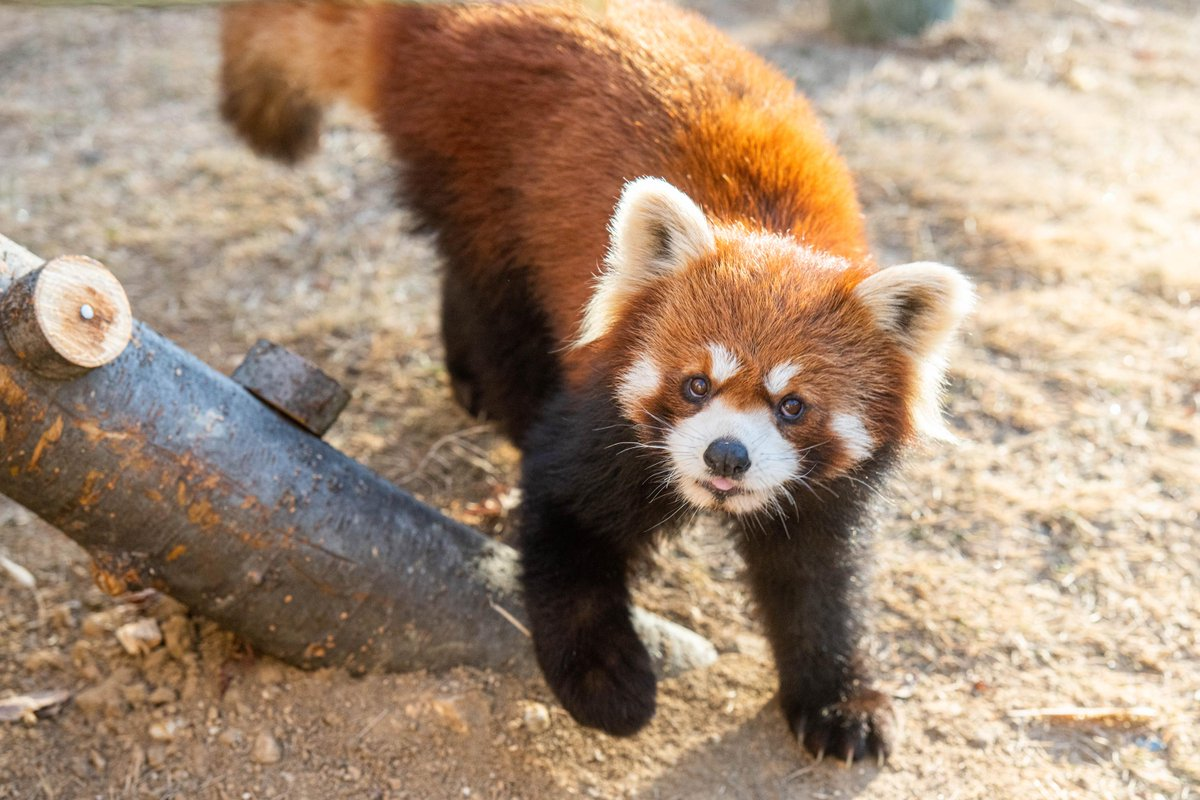redPanda: (229, 0, 968, 763)
